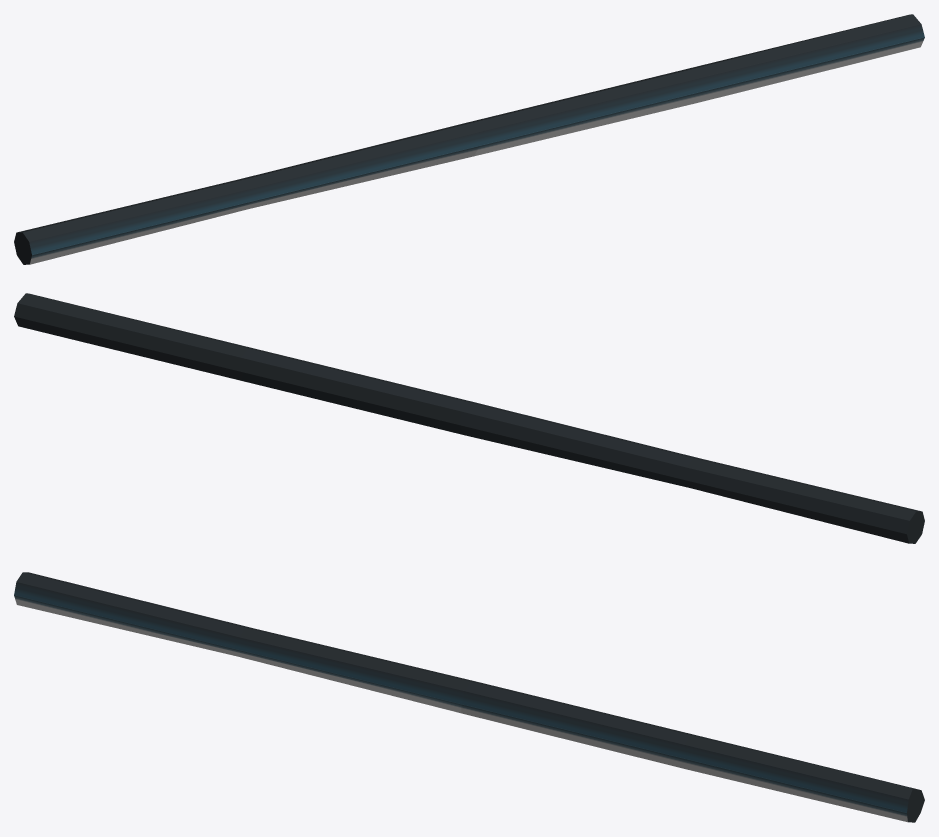
Rendered from pole_metal_02.fbx.
3 renders of one model, top to bottom at view 1: azimuth 30°, elevation 25°; view 2: azimuth 150°, elevation 25°; view 3: azimuth 330°, elevation 25°, orthographic.
Parts seen in each view (by area): view 1: mpole02; view 2: mpole02; view 3: mpole02.
Part boxes in pixels (bbox=[...]): mpole02: bbox=[14, 14, 924, 264]; mpole02: bbox=[14, 293, 924, 543]; mpole02: bbox=[14, 572, 924, 822].
Bounding box in the file's own units: 8.18 × 0.2869 × 0.304.
